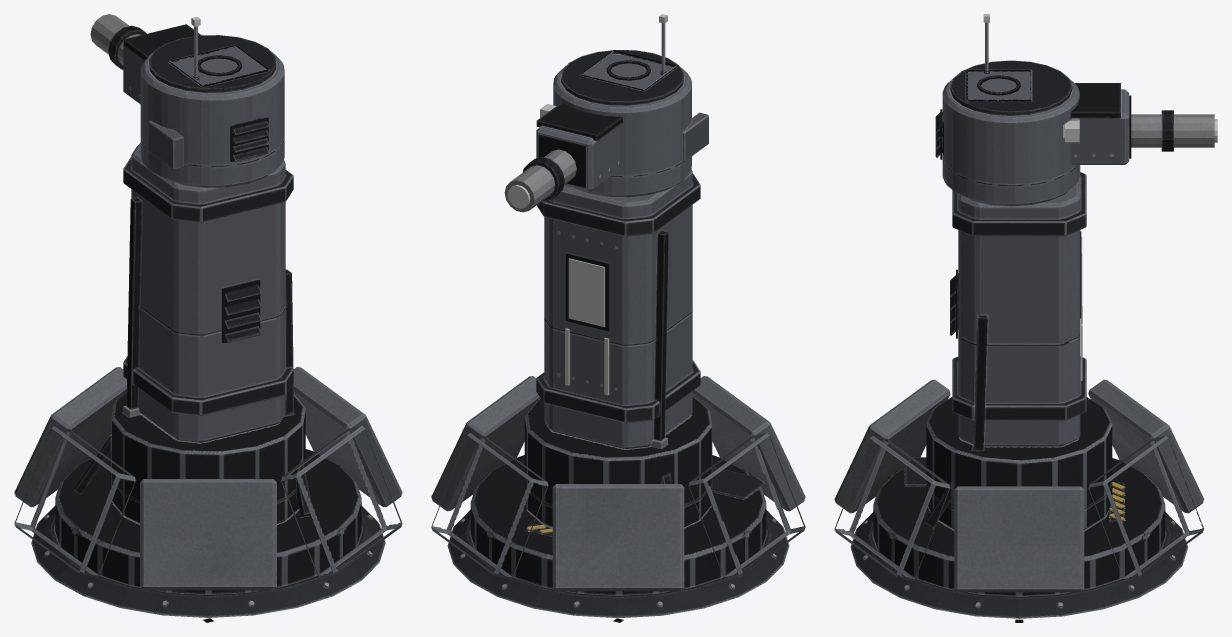
The model's file is chs_guard.fbx.
3 views of the same model, side by side, from view 1: azimuth 30°, elevation 25°; view 2: azimuth 150°, elevation 25°; view 3: azimuth 270°, elevation 25° (orthographic). The views are drawn at different scales.
Visible parts, largest first — view 1: base_bar, turret_bar, barrel_bar; view 2: base_bar, turret_bar, barrel_bar, base_glow_power_bar, base_glow_running_bar; view 3: base_bar, turret_bar, barrel_bar.
Boxes of the visible parts, x1,y1,x2,y2 form: base_bar: (14,143,402,617); turret_bar: (140,26,284,187); barrel_bar: (90,14,201,104); base_bar: (431,169,805,618); turret_bar: (553,23,708,197); barrel_bar: (504,102,622,212); base_glow_power_bar: (568,258,604,327); base_glow_running_bar: (565,328,608,395); base_bar: (834,165,1203,618); turret_bar: (935,22,1079,206); barrel_bar: (1070,83,1214,164).
Bounding box in the file's own units: 874 × 1606 × 941.
2 materials, 2 textured.
